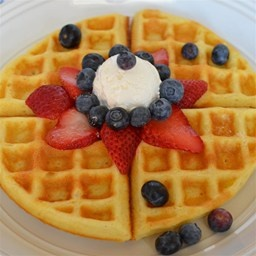background: (0, 3, 102, 102)
